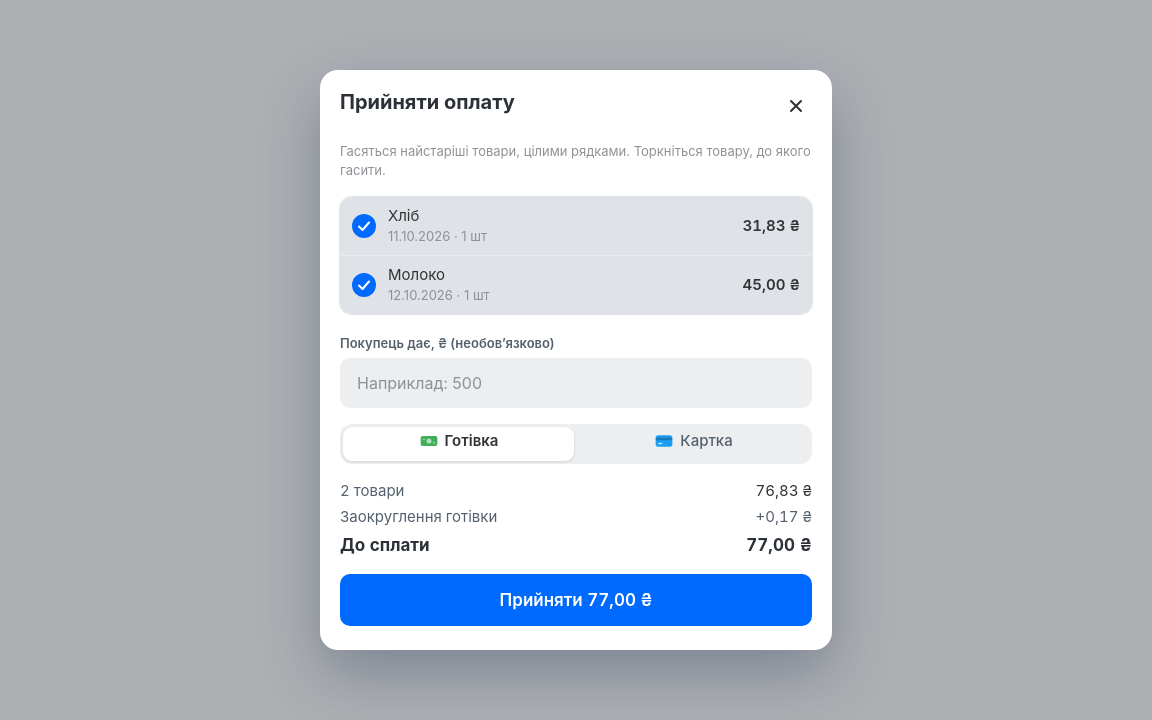
Test case: PaySheet › names the lines to the server one by one and rounds the cash the store’s way
What coordinates should you click on to do the following:
click the button "Хліб 11.10.2026 · 1 шт 31,83 ₴"
I would click on:
 (404, 215)
Its box is [340,197,812,255].
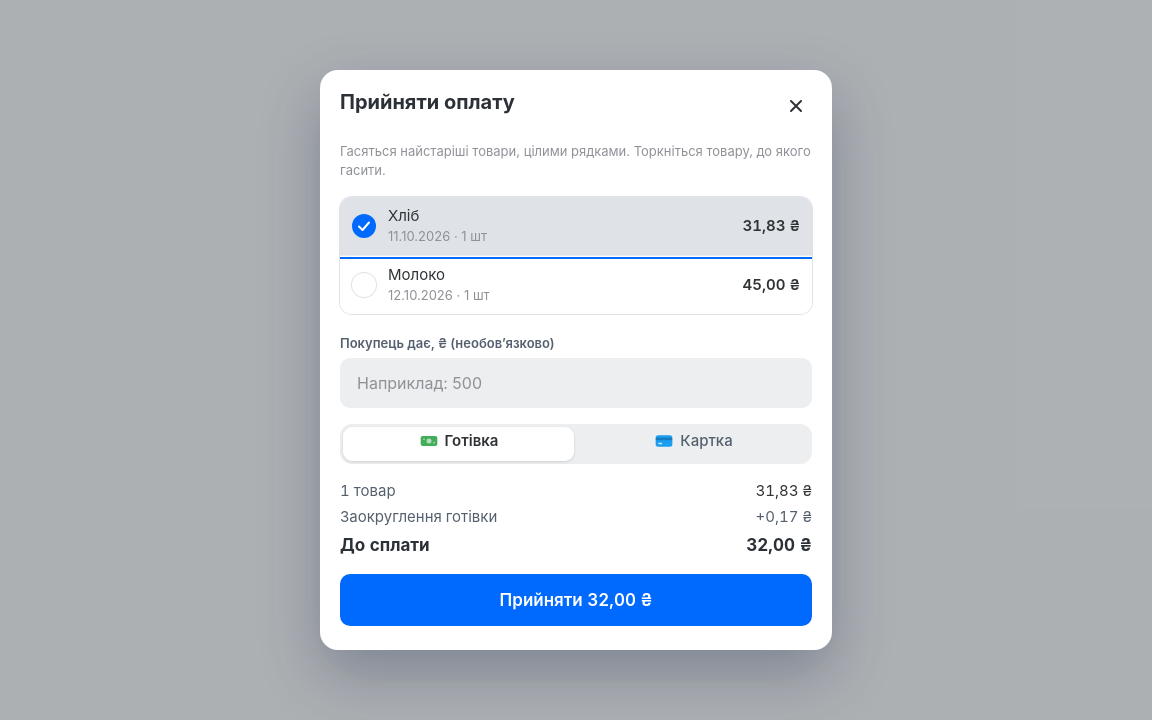
Expected: the text "Заокруглення готівки" is shown, [340,506,497,529]
What coordinates should you click on to do the following:
click the button "Прийняти 32,00 ₴"
I would click on:
 (576, 600)
Its box is [340,574,812,626].
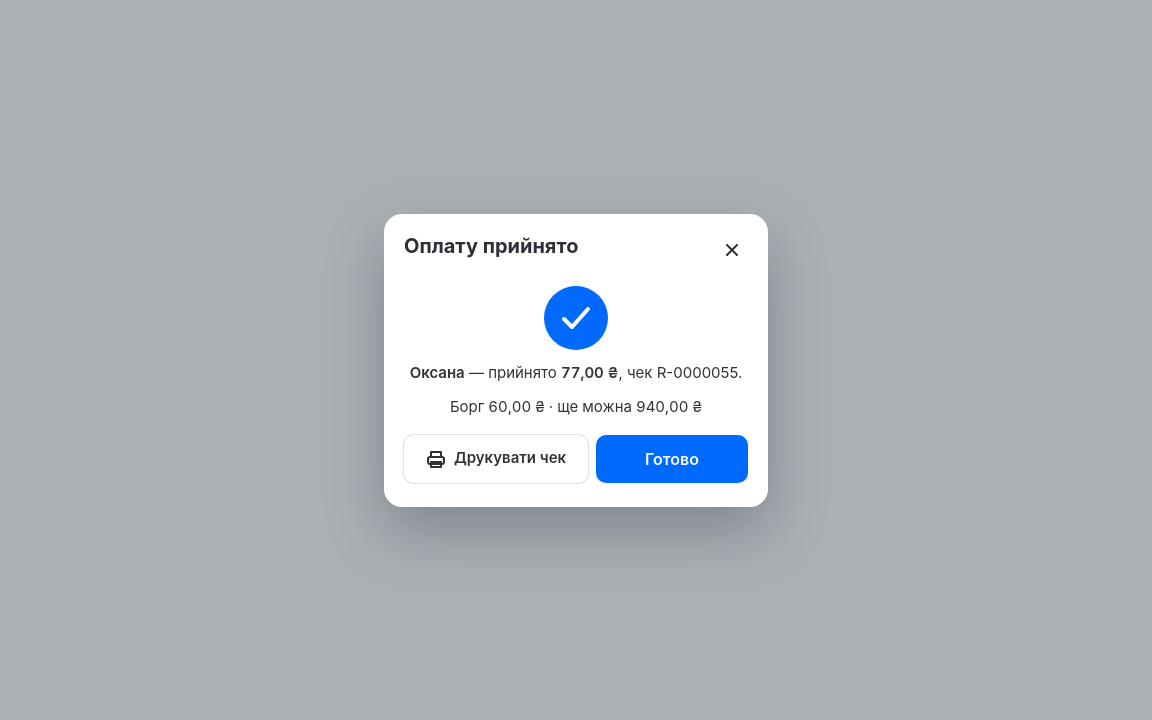
Result: the dialog with test id "debts-pay-done" is shown at [384,214,768,506]
